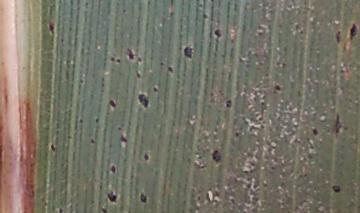tarspot: (331, 110, 342, 138), (135, 91, 151, 110), (182, 44, 197, 63), (209, 149, 225, 165), (46, 17, 58, 38), (329, 181, 345, 196), (106, 190, 121, 206), (123, 46, 137, 63), (212, 27, 225, 41), (348, 23, 358, 41), (138, 191, 150, 205), (106, 97, 118, 110), (165, 64, 177, 76), (309, 127, 322, 138), (224, 97, 235, 110), (334, 30, 344, 43), (109, 163, 119, 174), (48, 142, 58, 153), (151, 84, 160, 96), (120, 132, 127, 147), (273, 84, 283, 94), (89, 137, 98, 148), (134, 70, 143, 80), (76, 116, 86, 125), (143, 151, 150, 163), (201, 11, 210, 20), (233, 130, 242, 139), (93, 116, 101, 124), (137, 55, 144, 64), (114, 56, 121, 65), (343, 124, 349, 134), (56, 206, 64, 213), (109, 55, 115, 63), (159, 60, 165, 66)
